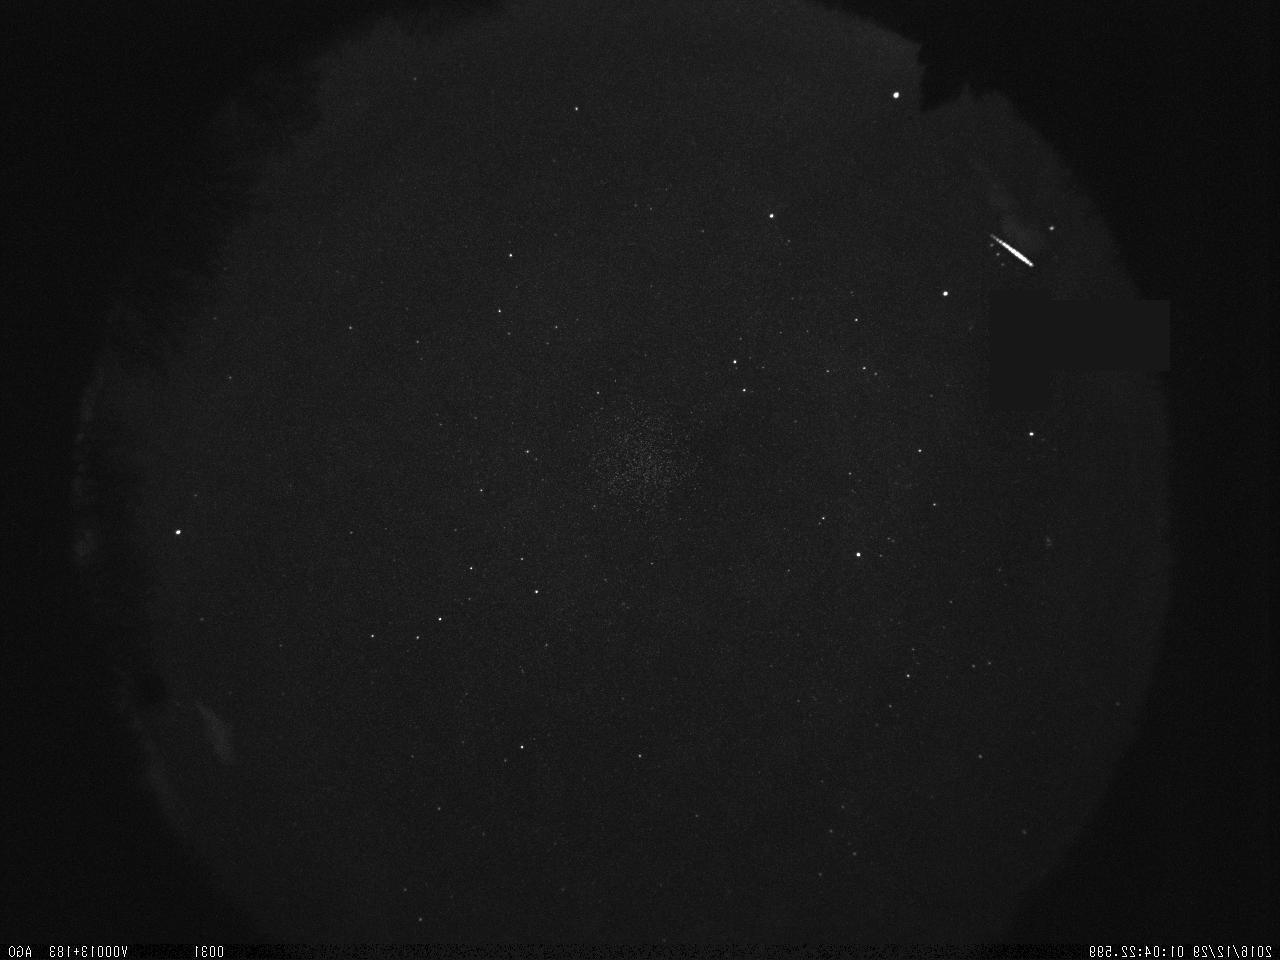meteor: (941, 213, 1057, 281)
